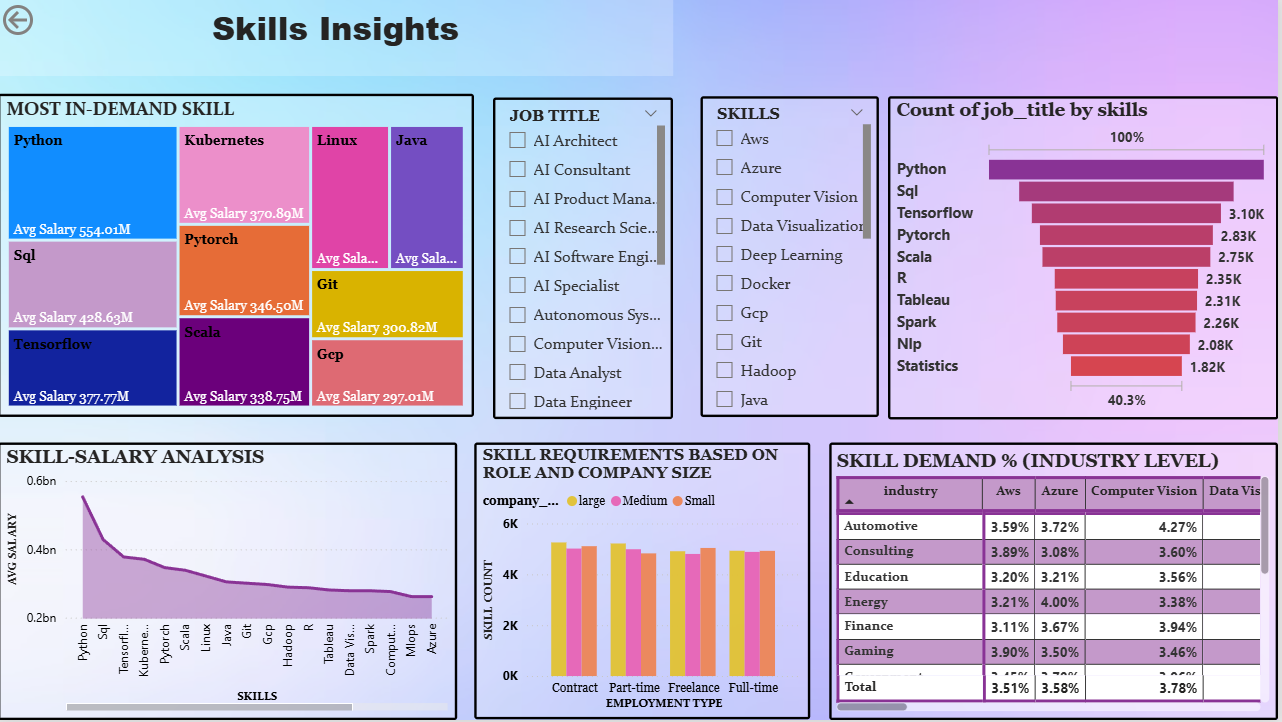

What the dashboard file says about the page in this screenshot:
{"tool":"powerbi","page":{"name":"skills insights","canvas":[1280,720],"ordinal":2},"visuals":[{"type":"lineChart","title":"SKILL-SALARY ANALYSIS","fields":{"Category":["dim skills table.skills"],"Y":["Sum(dim skills table.Avg Salary by Skill)"]},"box":[0,442.5,459.3,277.7],"z":0},{"type":"slicer","fields":{"Values":["dim_job_title.job_title"]},"box":[494.4,97.7,180.1,322],"z":1000},{"type":"actionButton","box":[0,0,100,40],"z":2000},{"type":"funnel","fields":{"Category":["dim skills table.skills"],"Y":["CountNonNull(dim skills table.job_title)"]},"box":[890,95.7,390,322.9],"z":3000},{"type":"slicer","fields":{"Values":["dim skills table.skills"]},"box":[702,96.1,178.5,320.5],"z":4000},{"type":"pivotTable","title":"SKILL DEMAND % (INDUSTRY LEVEL)","fields":{"Rows":["Dim_Industry.industry"],"Columns":["dim skills table.skills"],"Values":["Sum(dim skills table.Avg Salary by Skill)"]},"box":[831.7,442.5,448.6,277.7],"z":5000},{"type":"clusteredColumnChart","title":"SKILL REQUIREMENTS BASED ON ROLE AND COMPANY SIZE","fields":{"Category":["Dim_EmploymentType.Employment_type1"],"Y":["CountNonNull(dim skills table.skills)"],"Series":["Dim_CompanySize.company_size"]},"box":[475.7,442.9,335.7,277.1],"z":6000},{"type":"textbox","box":[0,0,675.1,76.3],"z":7000},{"type":"treemap","title":"MOST IN-DEMAND SKILL","fields":{"Group":["dim skills table.skills"],"Values":["CountNonNull(dim skills table.job_id)","Sum(dim skills table.Avg Salary by Skill)"]},"box":[0,94,476,323],"z":8000}]}

Visuals, with their boxes in screenshot pixels (x1, y1, x2, y2), scaled from the page's 1280x720 canvas onto the 1282x722 screenshot:
"SKILL-SALARY ANALYSIS" lineChart: (left=0, top=444, right=460, bottom=721)
slicer - dim_job_title.job_title: (left=495, top=98, right=676, bottom=421)
actionButton: (left=0, top=0, right=100, bottom=40)
funnel - dim skills table.skills x CountNonNull(dim skills table.job_title): (left=891, top=96, right=1281, bottom=420)
slicer - dim skills table.skills: (left=703, top=96, right=882, bottom=418)
"SKILL DEMAND % (INDUSTRY LEVEL)" pivotTable: (left=833, top=444, right=1281, bottom=721)
"SKILL REQUIREMENTS BASED ON ROLE AND COMPANY SIZE" clusteredColumnChart: (left=476, top=444, right=813, bottom=721)
textbox: (left=0, top=0, right=676, bottom=77)
"MOST IN-DEMAND SKILL" treemap: (left=0, top=94, right=477, bottom=418)
